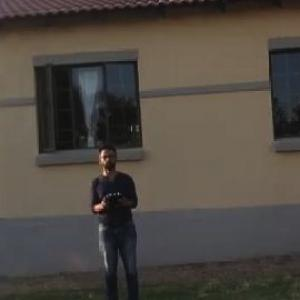follow: (85, 135, 144, 299)
